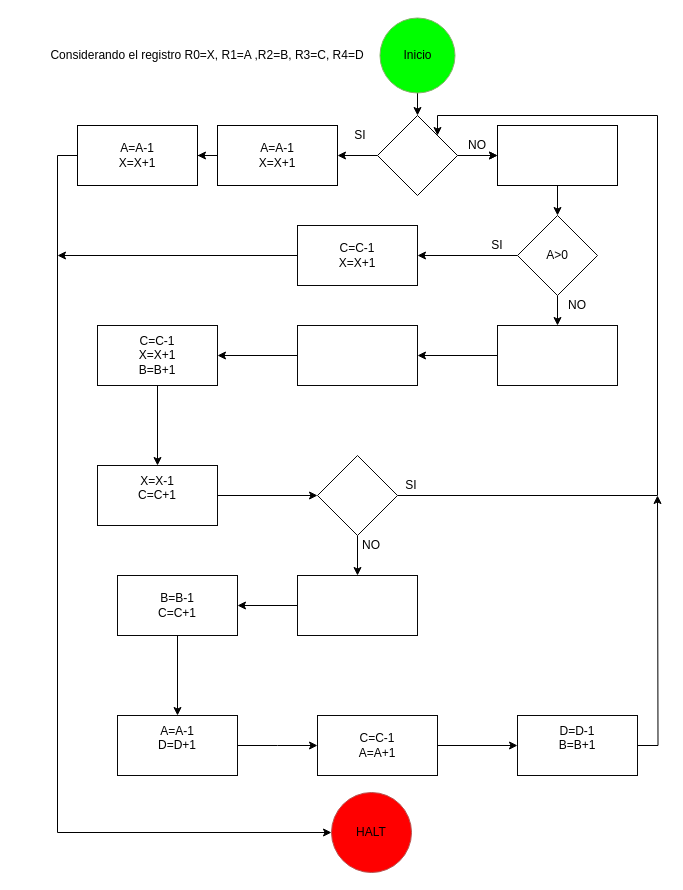
Some shapes in this 683 by 890 pixel diagram are drawn without their labels. The centre of each missing label's shape, as x and y in pixels:
"A=A-1 B=B+1 D=D+1" belongs at (557,355).
"B=B-1 A=A+1" belongs at (357,355).
"B=B-1 A=A-1 C=C+1" belongs at (557,155).
"B>0" belongs at (417,155).
"C=C-1" belongs at (357,605).
"D-C>0" belongs at (357,495).
